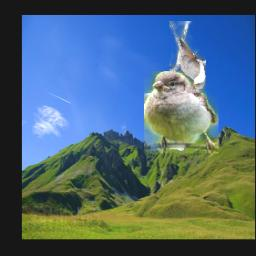Cuckoo: (169, 21, 206, 89)
Sparrow: (144, 71, 219, 153)
